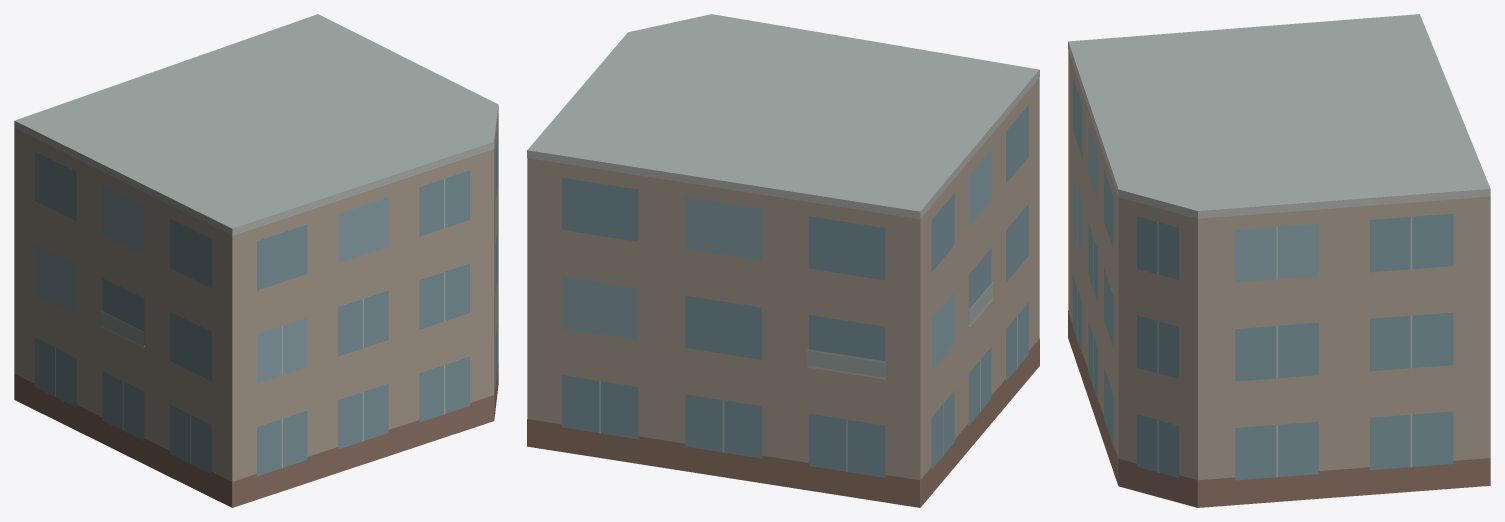
Rendered from survey-upis-32902960.glb.
The picture shows the model from 3 angles, left to right: view 1: azimuth 30°, elevation 25°; view 2: azimuth 150°, elevation 25°; view 3: azimuth 270°, elevation 25°; orthographic projection. The views are drawn at different scales.
Visible parts, largest first — view 1: survey-upis-32902960.tmp; view 2: survey-upis-32902960.tmp; view 3: survey-upis-32902960.tmp.
Part boxes in pixels (bbox=[...]): survey-upis-32902960.tmp: bbox=[14, 14, 498, 507]; survey-upis-32902960.tmp: bbox=[527, 14, 1039, 507]; survey-upis-32902960.tmp: bbox=[1068, 14, 1490, 507].
Size of the model in its own units: 13.39 by 9.4 by 12.14.
